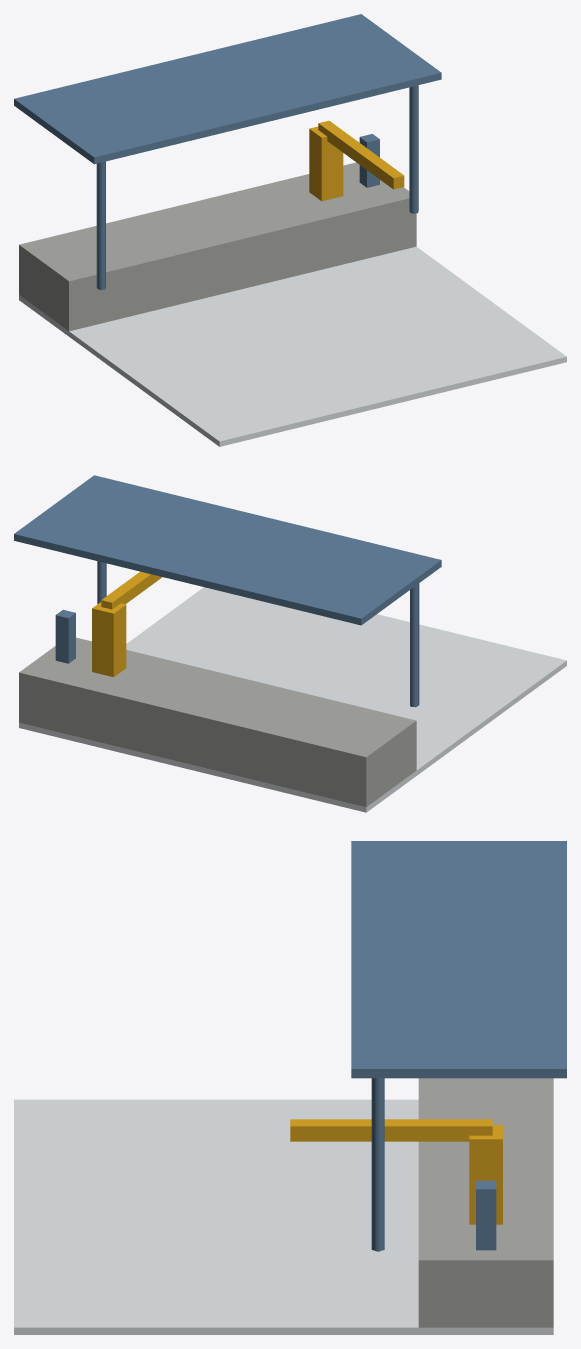
File: road_industrial_x_loading_bay_lod2.glb
3 views of the same model, one above another, from view 1: azimuth 30°, elevation 25°; view 2: azimuth 150°, elevation 25°; view 3: azimuth 270°, elevation 25° (orthographic). The views are drawn at different scales.
Visible parts, largest first — view 1: body, arm; view 2: body, arm; view 3: body, arm.
Boxes of the visible parts, x1=… form: body: x1=14, y1=14, x2=566, y2=446; arm: x1=309, y1=120, x2=404, y2=201; body: x1=14, y1=475, x2=566, y2=812; arm: x1=92, y1=571, x2=162, y2=677; body: x1=14, y1=841, x2=566, y2=1334; arm: x1=290, y1=1119, x2=502, y2=1224.
Size of the model in its own units: 8 by 4.35 by 8.2.
